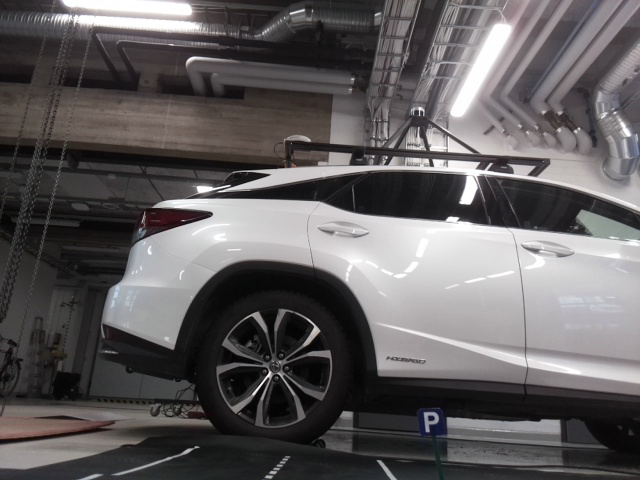Parking: (415, 409, 444, 436)
